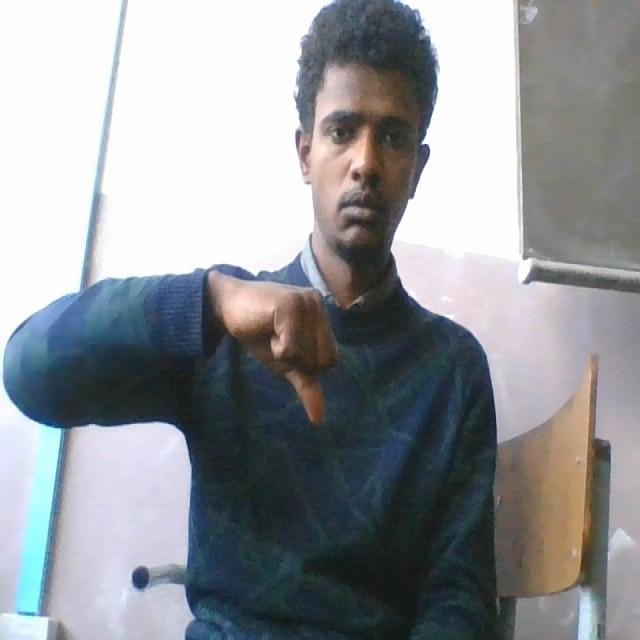injera: (154, 257, 352, 434)
